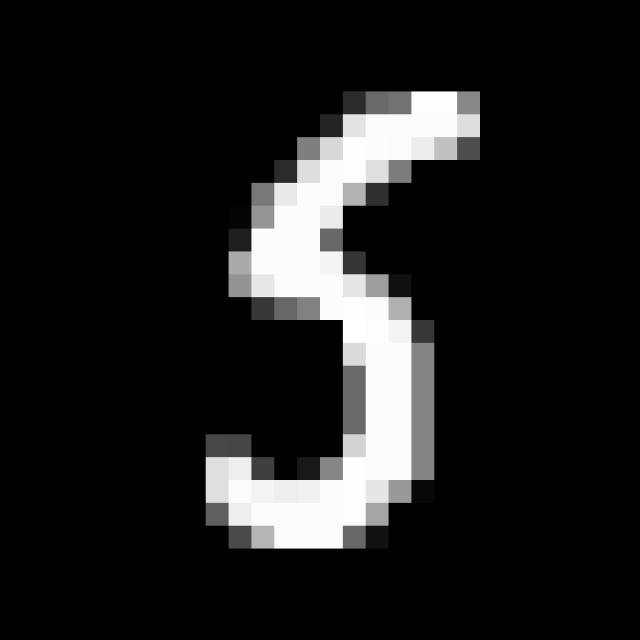five -5-: (197, 78, 488, 548)
